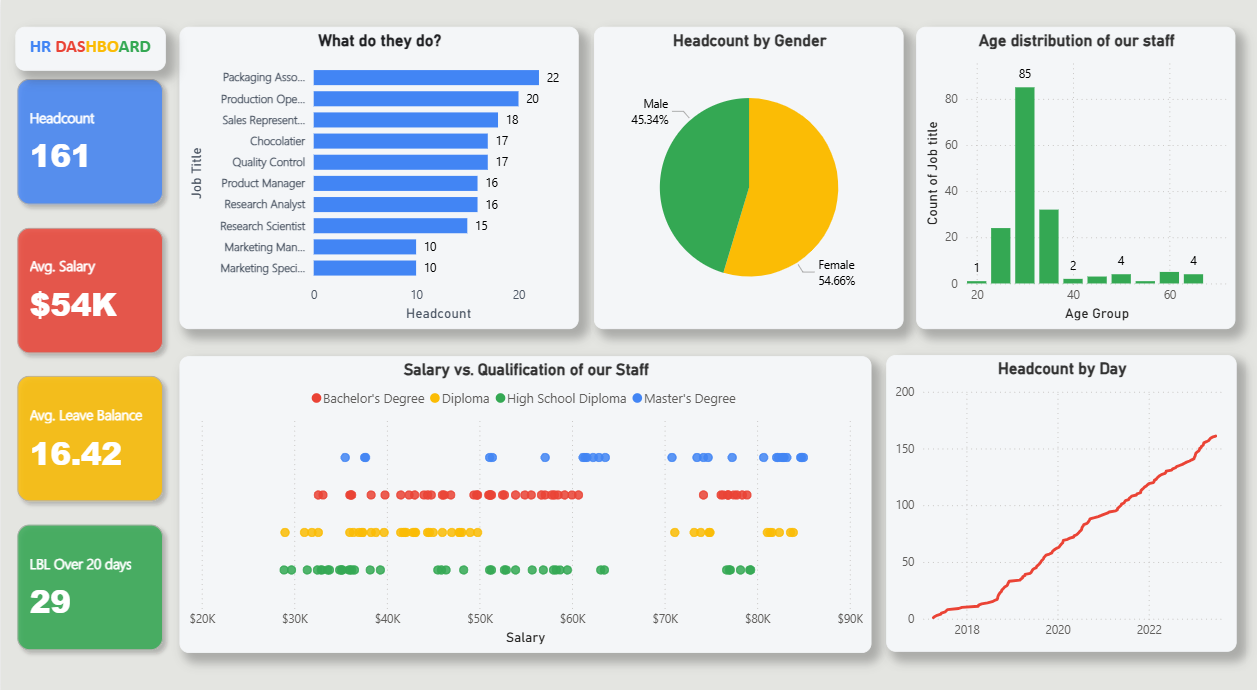

This screenshot's page, from the dashboard's own definition file:
{"tool":"powerbi","page":{"name":"Page 10","canvas":[1318,732],"ordinal":9},"visuals":[{"type":"cardVisual","fields":{"Data":["Staff.Headcount","Staff.Avg. Salary","Staff.Avg. Leave Balance","Staff.LBL Over 20 days"]},"box":[0,67.8,186.7,630],"z":0},{"type":"clusteredBarChart","title":"What do they do?","fields":{"Category":["Staff.Job Title"],"Y":["Staff.Headcount"]},"box":[186.7,30,416.7,315.6],"z":1000},{"type":"pieChart","fields":{"Category":["Staff.Gender"],"Y":["Staff.Headcount"]},"box":[618.9,30,323.3,315.6],"z":2000},{"type":"columnChart","title":"Age distribution of our staff","fields":{"Y":["CountNonNull(Staff.Job Title)"],"Category":["Staff.Age (bins)"]},"box":[955.6,30,333.3,315.6],"z":2001},{"type":"scatterChart","title":"Salary vs. Qualification of our Staff","fields":{"X":["Staff.Salary"],"Series":["Staff.Education Qualification"],"Y":["Education Qualification.Quanlification ID"]},"box":[186.7,373.3,722.2,310],"z":2002},{"type":"lineChart","title":"Headcount by Day","fields":{"Y":["Staff.Cumulative Headcount"],"Category":["Staff.Date of Join"]},"box":[923.3,372.2,365.6,310],"z":2003},{"type":"textbox","box":[15.6,30,156.7,45.6],"z":2004}]}

Visuals, with their boxes in screenshot pixels (x1, y1, x2, y2), scaled from the page's 1318x732 canvas onto the 1257x690 screenshot:
cardVisual - Staff.Headcount x Staff.Avg. Salary: (left=0, top=64, right=178, bottom=658)
"What do they do?" clusteredBarChart: (left=178, top=28, right=575, bottom=326)
pieChart - Staff.Gender x Staff.Headcount: (left=590, top=28, right=899, bottom=326)
"Age distribution of our staff" columnChart: (left=911, top=28, right=1229, bottom=326)
"Salary vs. Qualification of our Staff" scatterChart: (left=178, top=352, right=867, bottom=644)
"Headcount by Day" lineChart: (left=881, top=351, right=1229, bottom=643)
textbox: (left=15, top=28, right=164, bottom=71)
